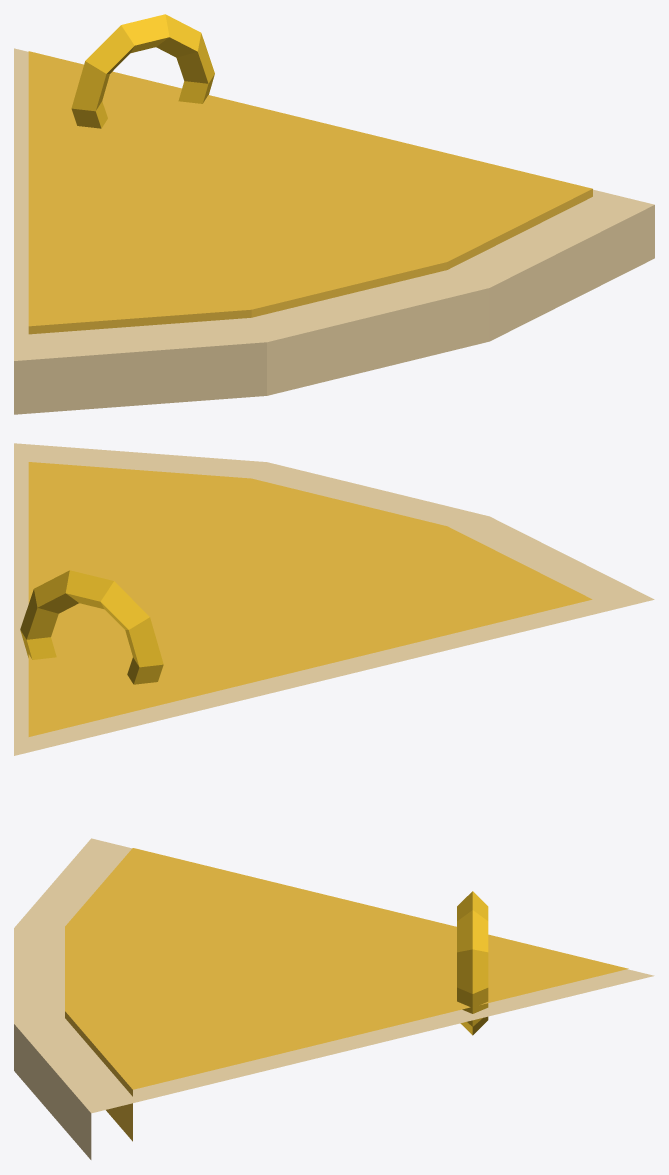
Rendered from bitten_slice_ring.glb.
3 renders of one model, top to bottom at view 1: azimuth 30°, elevation 25°; view 2: azimuth 150°, elevation 25°; view 3: azimuth 270°, elevation 25°, orthographic. The views are drawn at different scales.
Visible parts, largest first — view 1: cheese_pizza_cheese, crust_dough, ring_jewel_gold; view 2: cheese_pizza_cheese, crust_dough, ring_jewel_gold; view 3: cheese_pizza_cheese, crust_dough, ring_jewel_gold.
Part boxes in pixels (left/top/right/bottom): cheese_pizza_cheese: left=28, top=51, right=592, bottom=334; crust_dough: left=14, top=48, right=654, bottom=414; ring_jewel_gold: left=71, top=14, right=214, bottom=128; cheese_pizza_cheese: left=28, top=462, right=592, bottom=736; crust_dough: left=14, top=443, right=654, bottom=755; ring_jewel_gold: left=20, top=570, right=163, bottom=684; cheese_pizza_cheese: left=65, top=848, right=628, bottom=1141; crust_dough: left=14, top=838, right=654, bottom=1159; ring_jewel_gold: left=457, top=891, right=488, bottom=1035.
Bounding box in the file's own units: 0.25 × 0.0566 × 0.2462.
